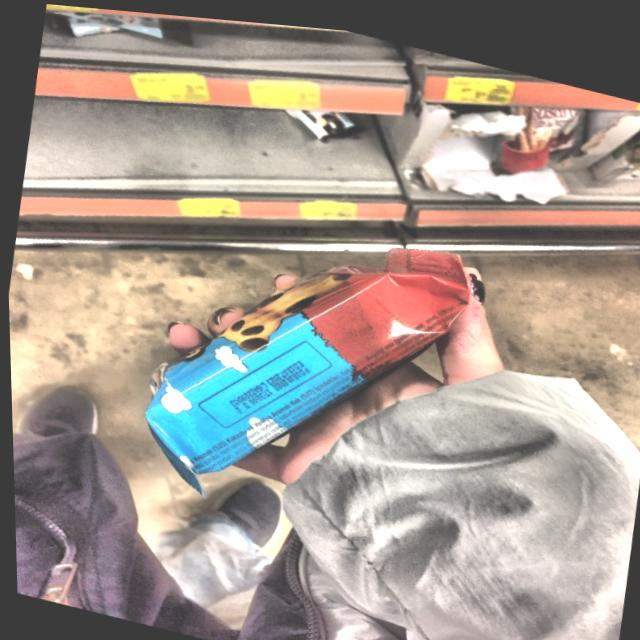Plastic: (118, 155, 520, 570)
